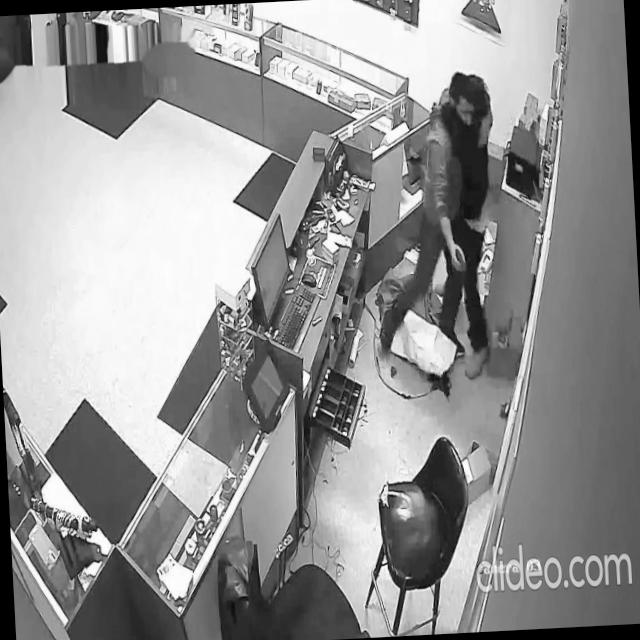gun: (454, 246, 468, 276)
person: (422, 72, 508, 383)
person with a gun: (366, 67, 506, 356)
